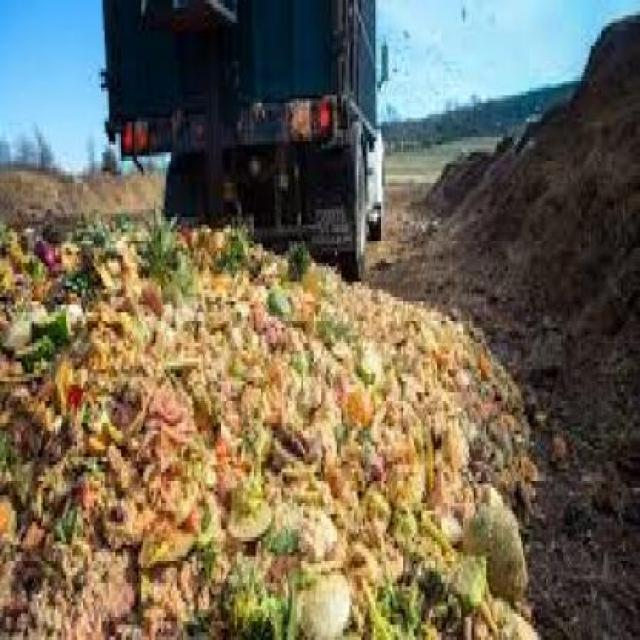garbage: (0, 189, 592, 635)
